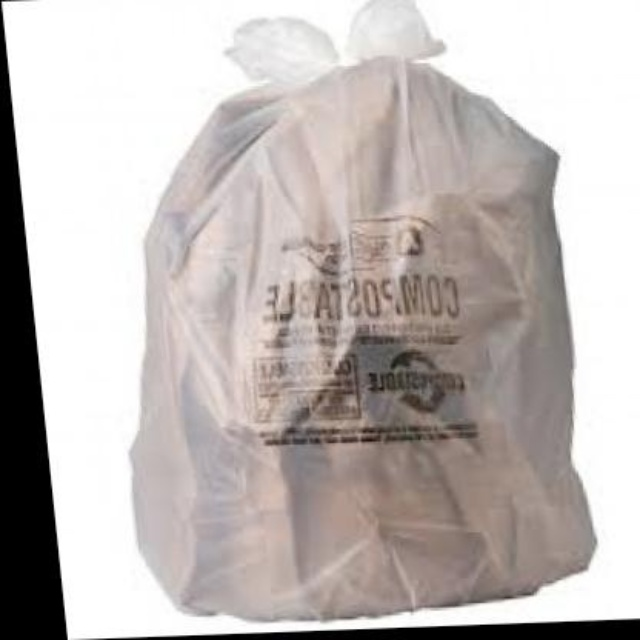trash: (132, 0, 594, 618)
